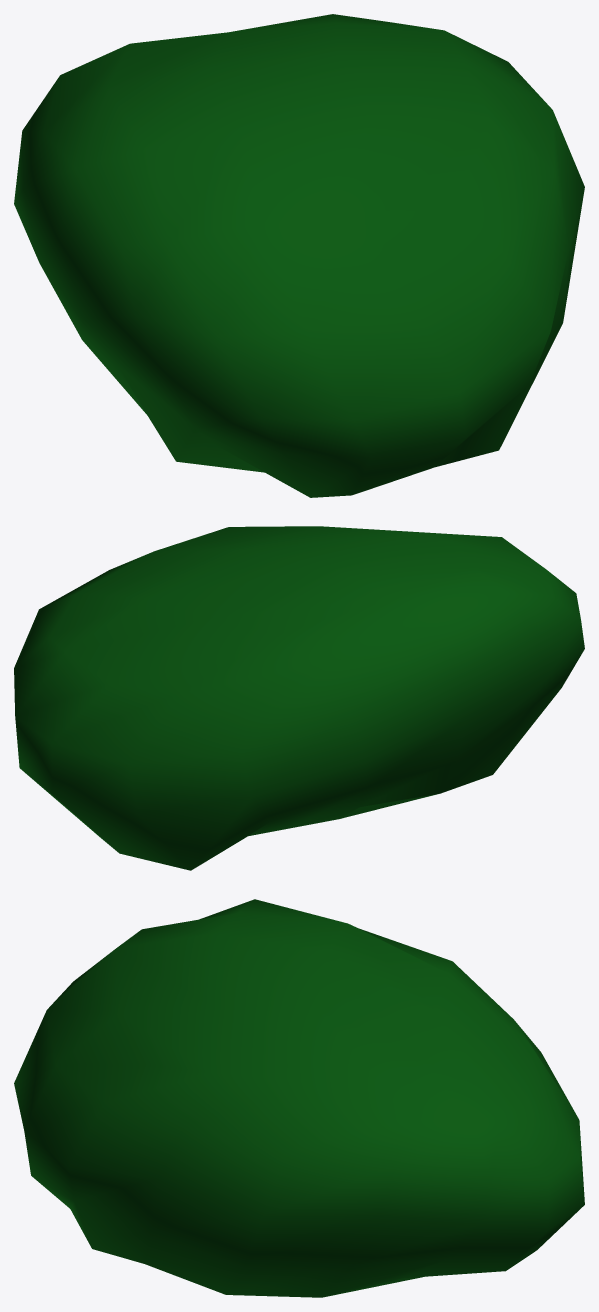
Rendered from Cespuglio 6.DAE.
3 renders of one model, top to bottom at view 1: azimuth 30°, elevation 25°; view 2: azimuth 150°, elevation 25°; view 3: azimuth 270°, elevation 25°, orthographic. The views are drawn at different scales.
Visible parts, largest first — view 1: Box009; view 2: Box009; view 3: Box009.
Part boxes in pixels (x1,y1,x2,y2): Box009: [14, 14, 584, 497]; Box009: [14, 526, 584, 870]; Box009: [14, 899, 584, 1297].
Size of the model in its own units: 46.65 by 26.49 by 53.34.
